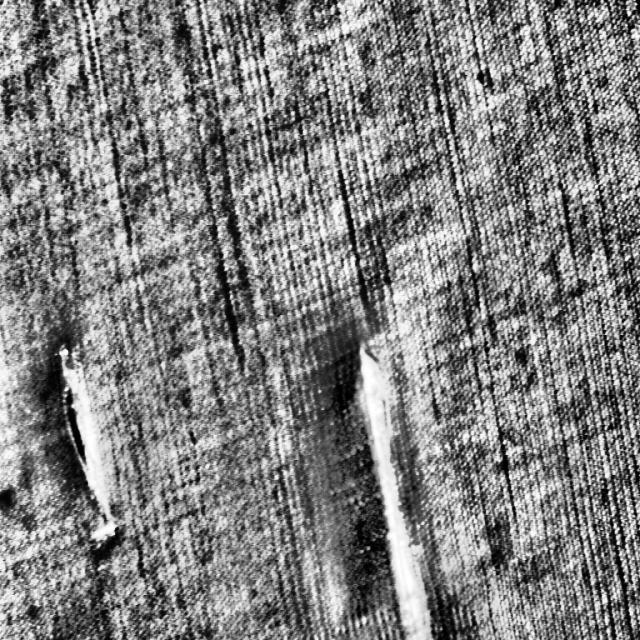selvet: (348, 331, 440, 639), (51, 335, 121, 549)
